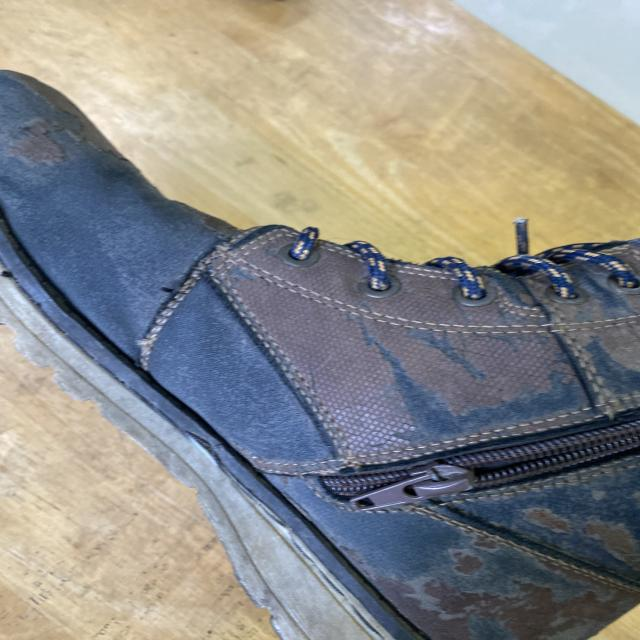broken: (121, 326, 164, 358), (152, 277, 193, 304)
